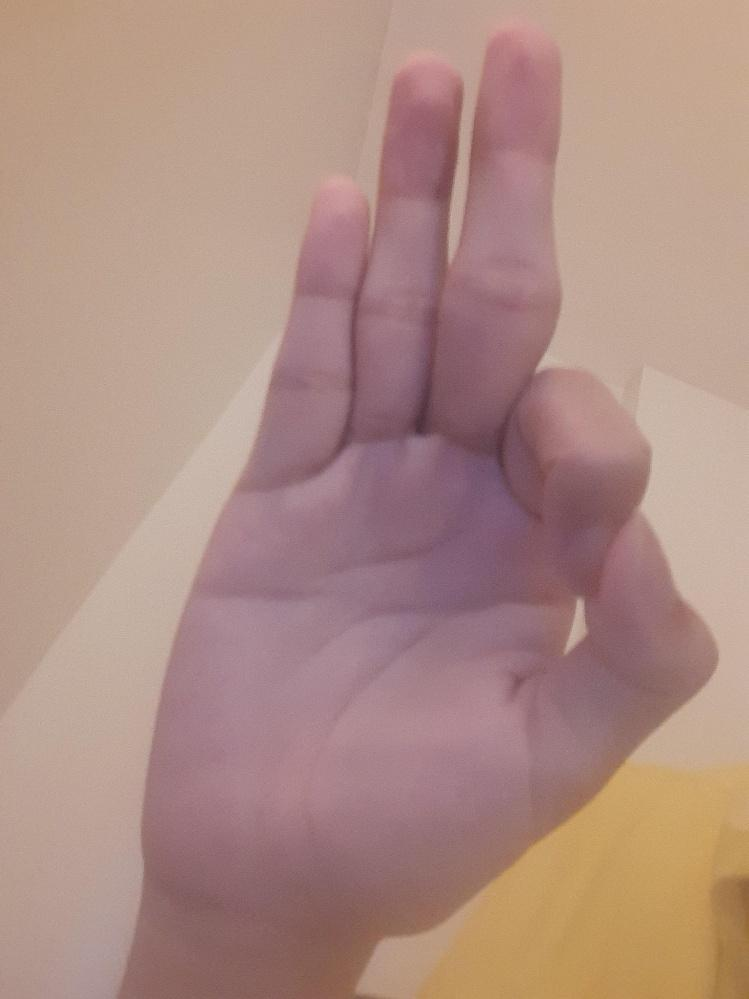f: (136, 26, 719, 931)
